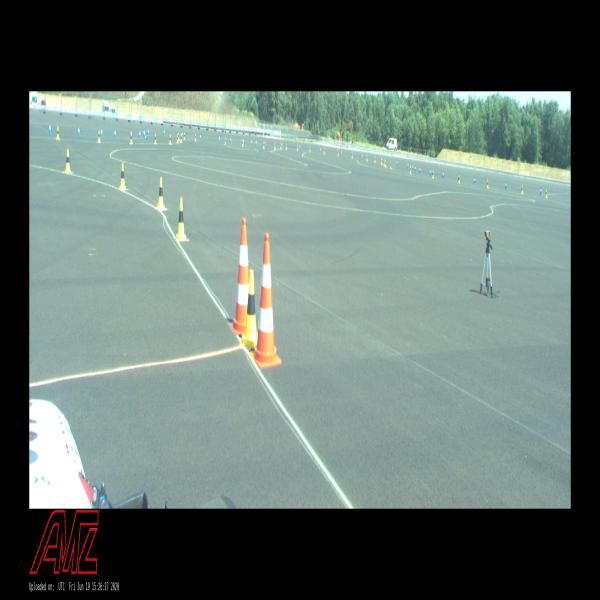blue_cone: (48, 122, 52, 135), (77, 125, 80, 138), (114, 128, 117, 139), (100, 127, 103, 138), (143, 128, 146, 138), (130, 128, 133, 138), (147, 127, 150, 136), (540, 186, 542, 196), (139, 129, 141, 139), (505, 180, 507, 190), (442, 170, 444, 179), (474, 176, 476, 184), (430, 168, 432, 176), (419, 166, 421, 174), (251, 138, 253, 146), (163, 128, 165, 136), (414, 165, 416, 173), (412, 164, 414, 172), (407, 162, 409, 169), (255, 139, 257, 146), (362, 153, 364, 160), (299, 143, 301, 150), (396, 160, 398, 166), (230, 138, 232, 144), (219, 136, 221, 142), (264, 140, 266, 146), (281, 142, 283, 148), (200, 133, 201, 140), (320, 146, 321, 153), (341, 149, 342, 156), (182, 131, 183, 138), (243, 138, 244, 144)
large_orange_cone: (250, 233, 282, 370), (230, 218, 249, 336)
yellow_cone: (240, 269, 258, 348), (175, 197, 188, 242), (156, 177, 166, 211), (118, 162, 126, 191), (65, 149, 71, 174), (56, 126, 60, 140), (97, 130, 101, 143), (130, 133, 133, 145), (169, 134, 172, 145), (486, 179, 489, 189), (154, 134, 157, 144), (409, 165, 412, 175), (176, 134, 179, 144), (545, 189, 548, 198), (380, 158, 383, 166), (522, 184, 524, 195), (458, 173, 460, 184), (178, 132, 180, 142), (180, 134, 182, 144), (432, 169, 434, 178), (194, 133, 196, 142), (184, 132, 186, 141), (274, 142, 276, 150), (366, 154, 368, 162), (385, 160, 387, 168), (351, 151, 353, 159), (263, 141, 265, 149), (242, 139, 244, 147), (374, 156, 376, 164), (390, 162, 392, 169), (337, 150, 339, 157), (280, 143, 282, 150), (383, 159, 385, 166), (309, 146, 311, 152), (323, 148, 325, 154), (297, 144, 298, 152), (225, 137, 226, 145), (286, 143, 287, 150)
